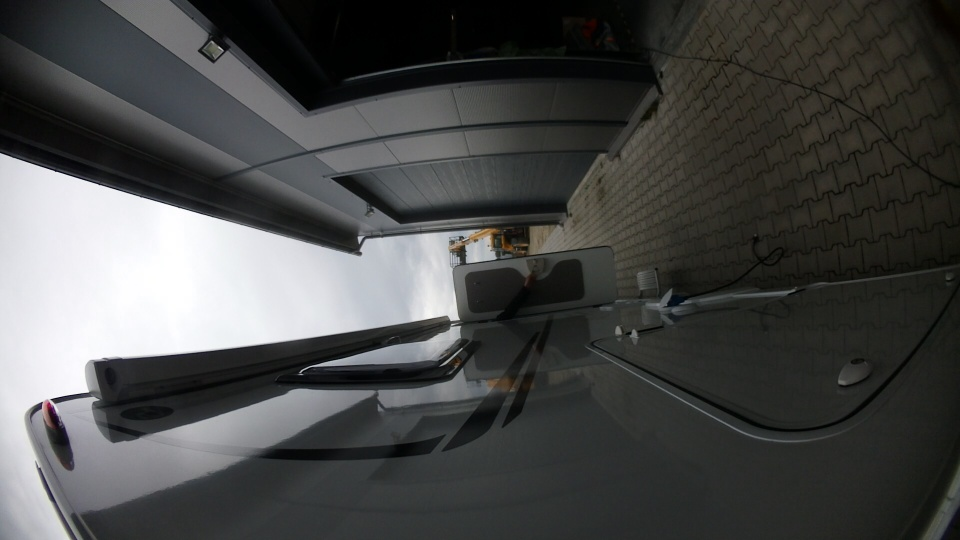door_back: (447, 241, 625, 320)
step_back: (630, 262, 664, 302)
